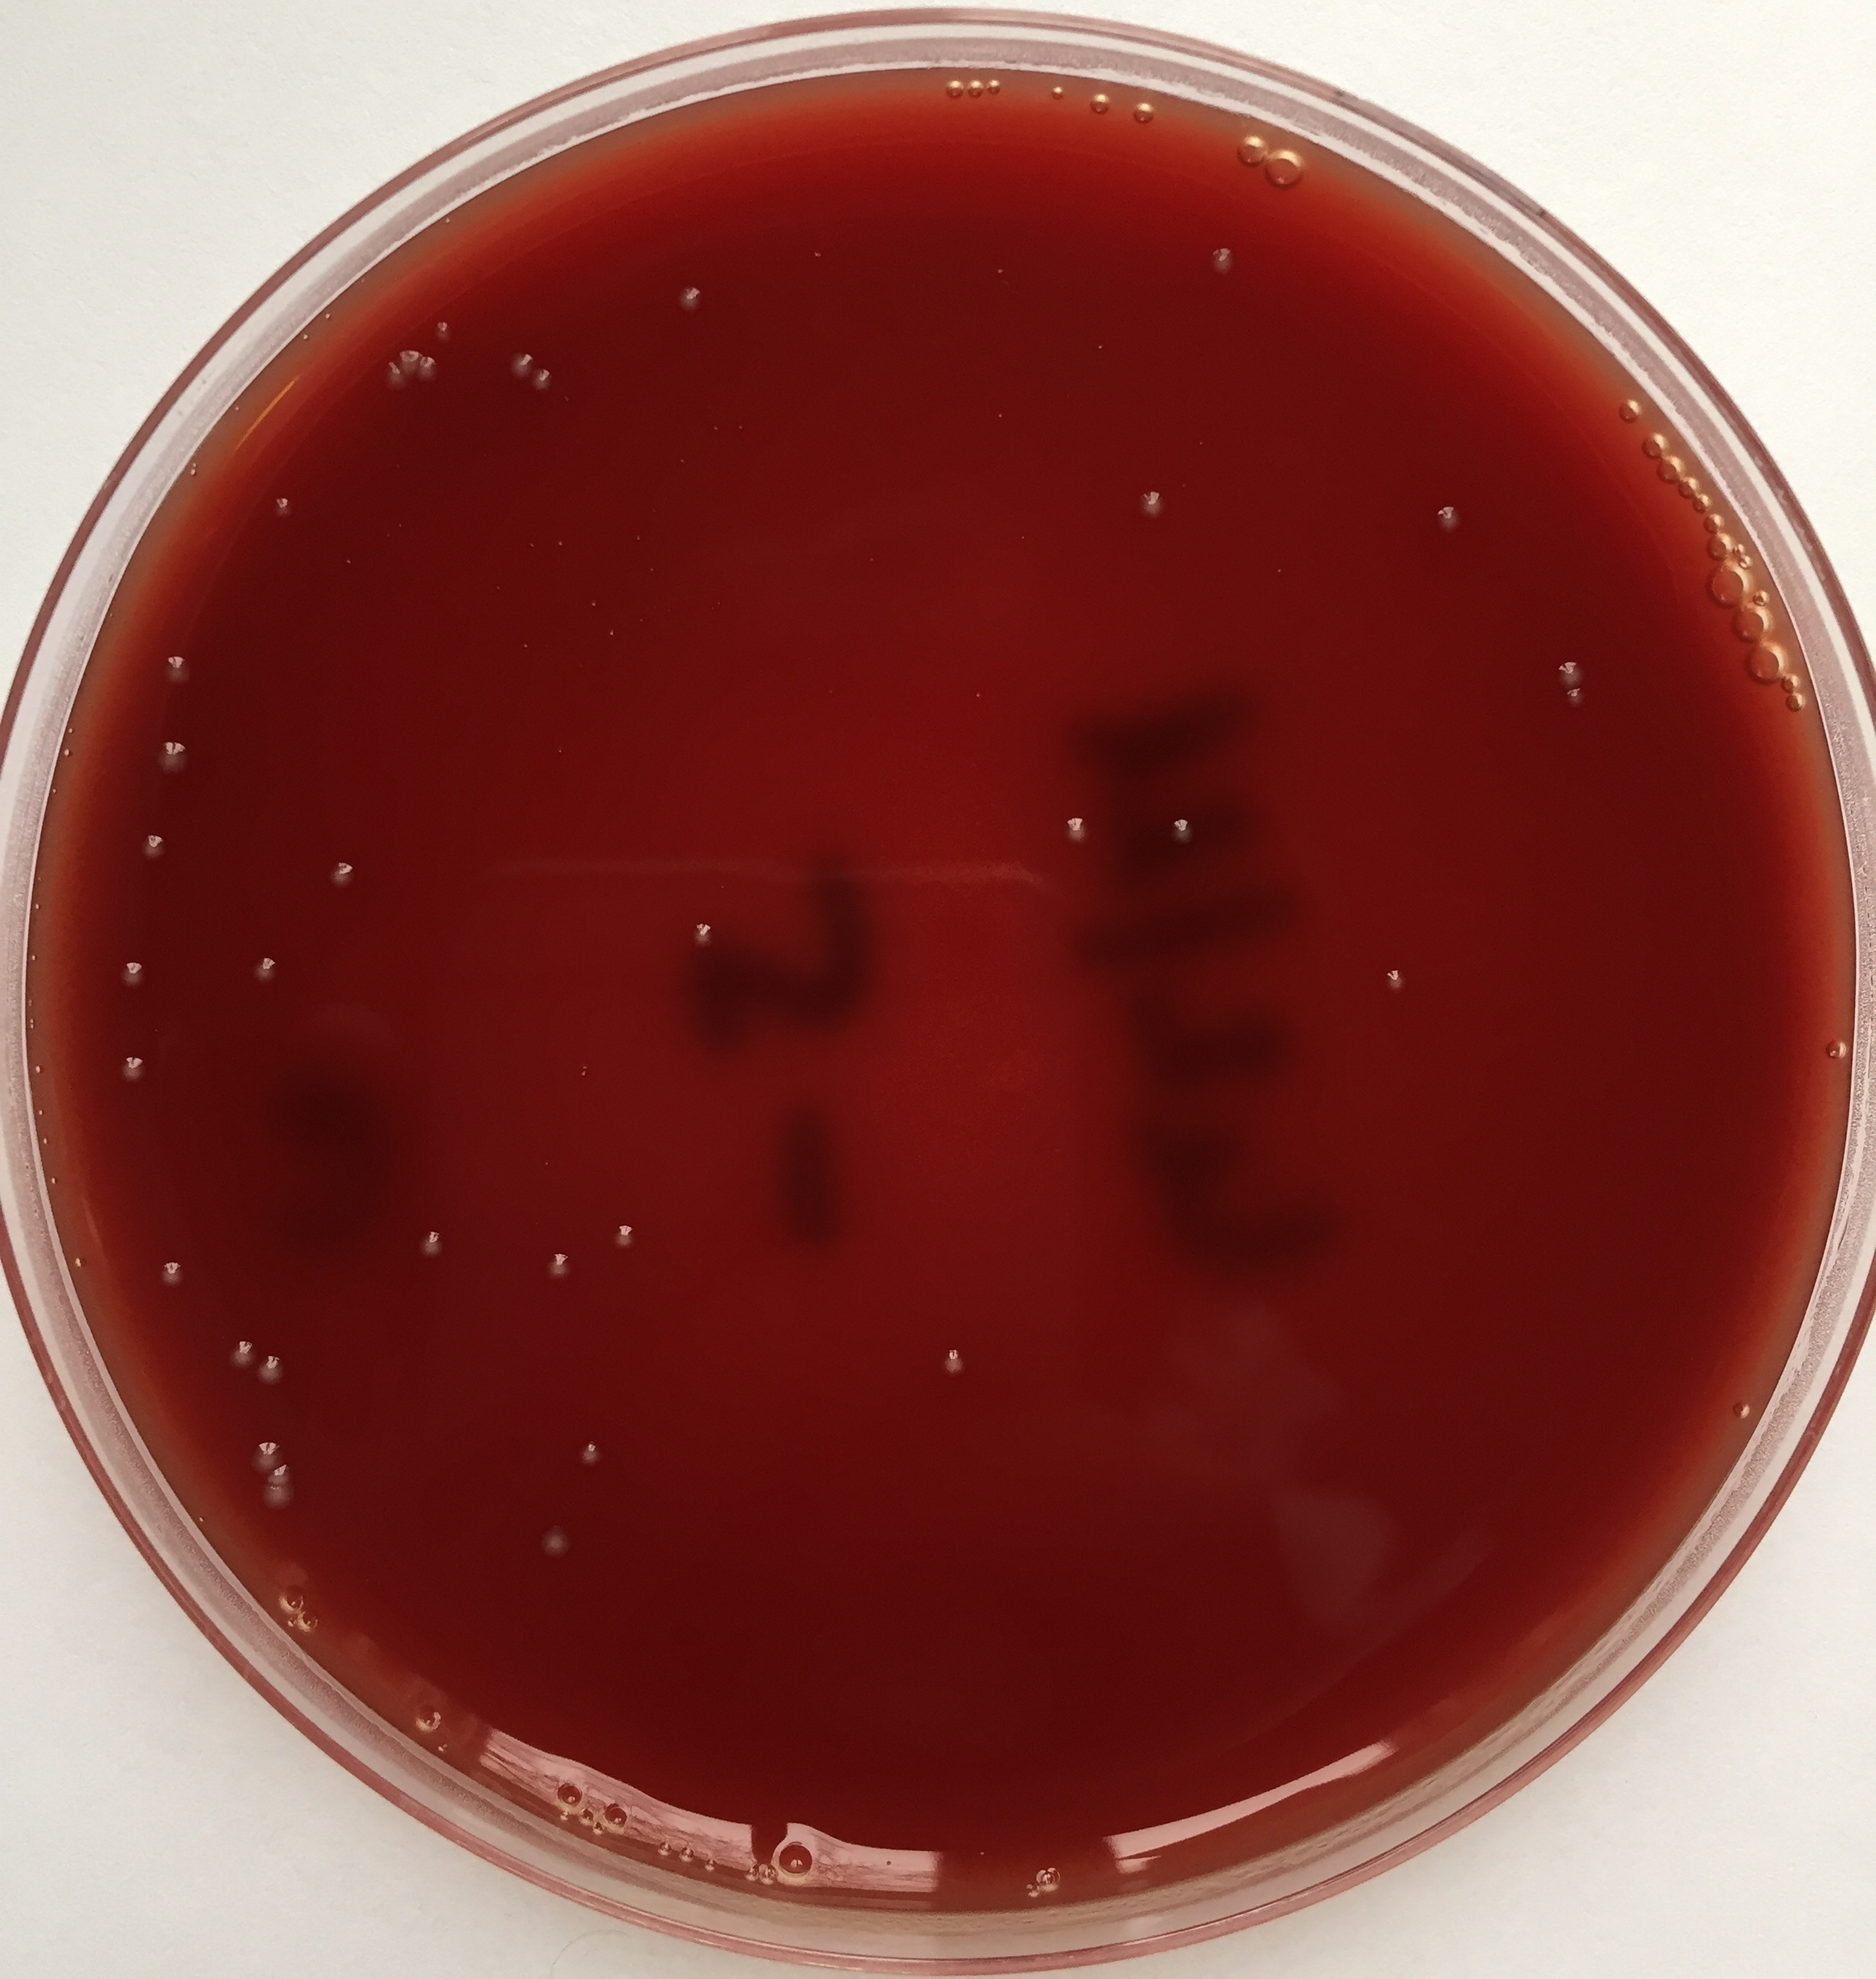sp06: (1042, 806, 1102, 857), (927, 1337, 975, 1392), (249, 1342, 296, 1395), (150, 732, 196, 783), (108, 956, 157, 997), (111, 1048, 155, 1090), (534, 1522, 578, 1565), (1132, 485, 1178, 526), (157, 646, 196, 693), (257, 1482, 309, 1517), (1428, 492, 1465, 540), (679, 917, 721, 958), (610, 1214, 645, 1261), (571, 1430, 608, 1473), (321, 852, 361, 889), (247, 949, 289, 984), (139, 827, 175, 868), (224, 1335, 270, 1365), (266, 492, 303, 529), (1199, 240, 1239, 273), (670, 280, 709, 314), (525, 363, 557, 404), (1377, 958, 1407, 998), (1553, 684, 1594, 714), (541, 1242, 575, 1277), (1546, 651, 1583, 683), (413, 1222, 444, 1259), (1165, 811, 1195, 848), (155, 1254, 185, 1291), (252, 1439, 282, 1476), (418, 355, 446, 392), (379, 356, 406, 395), (398, 342, 425, 381), (266, 1459, 302, 1487), (511, 347, 534, 377)
